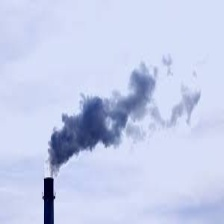smoke: (46, 76, 163, 174)
